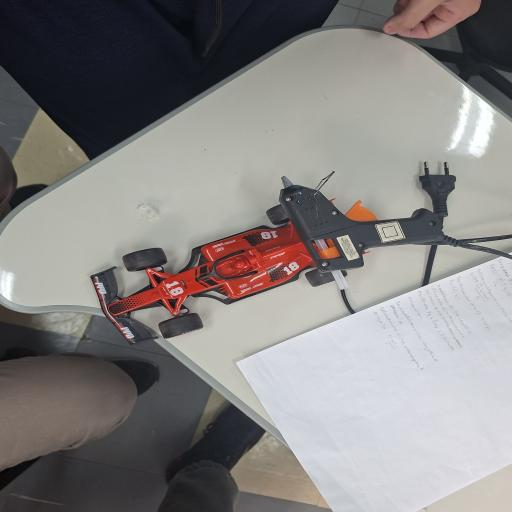carro: (79, 168, 451, 358)
